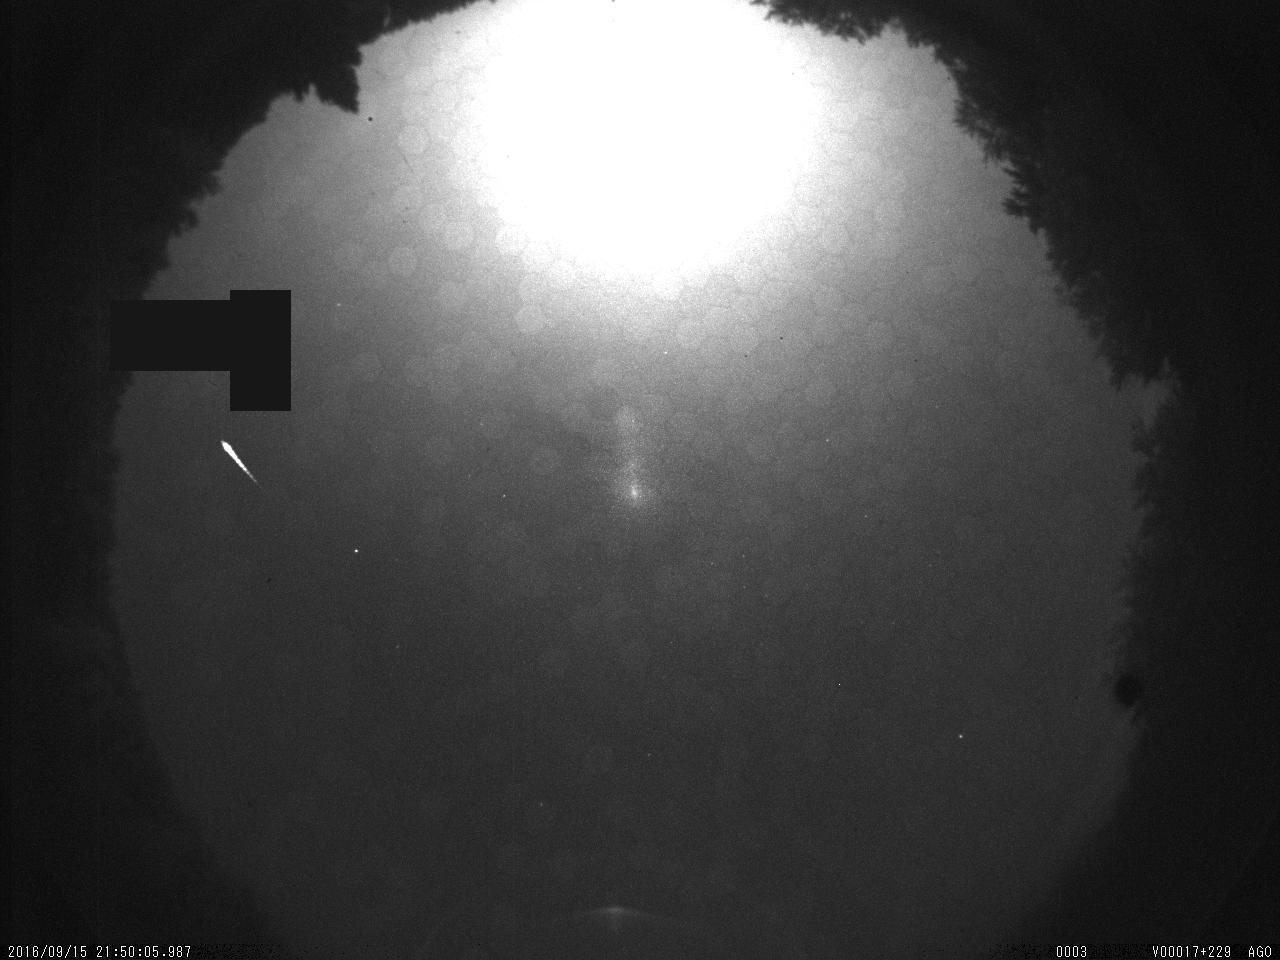Meteor: (220, 438, 260, 486)
